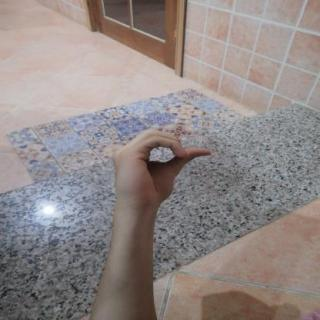WAW: (102, 122, 224, 217)
